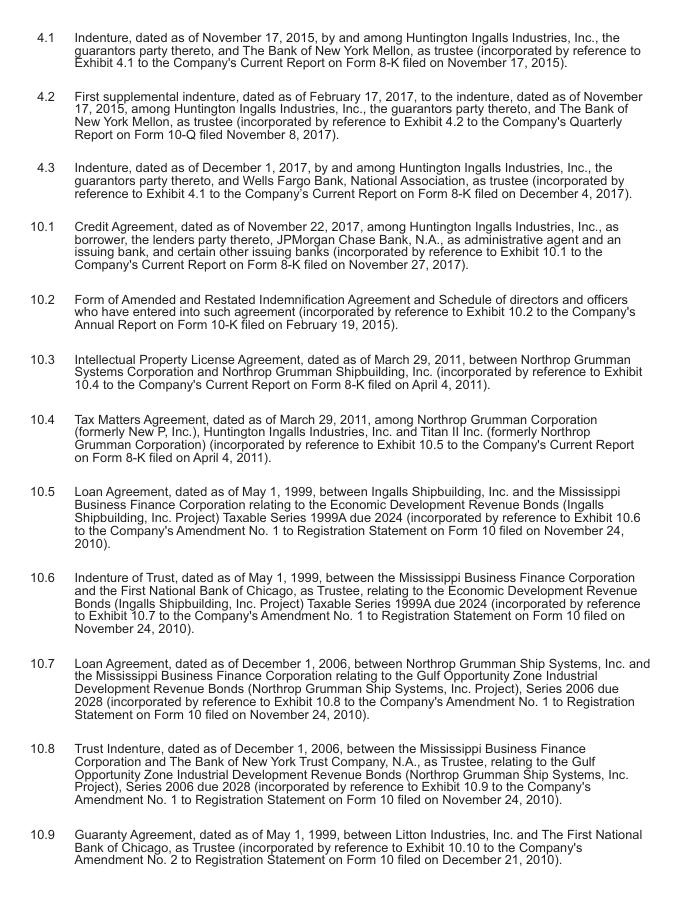table: (29, 29, 649, 865)
table column: (63, 29, 649, 865), (29, 29, 63, 865)
table row: (29, 473, 649, 559), (29, 644, 649, 730), (29, 730, 649, 816), (29, 559, 649, 644), (29, 78, 649, 150), (29, 208, 649, 280), (29, 401, 649, 473), (29, 340, 649, 401), (29, 280, 649, 340), (29, 150, 649, 208), (29, 29, 649, 78), (29, 816, 649, 865)
